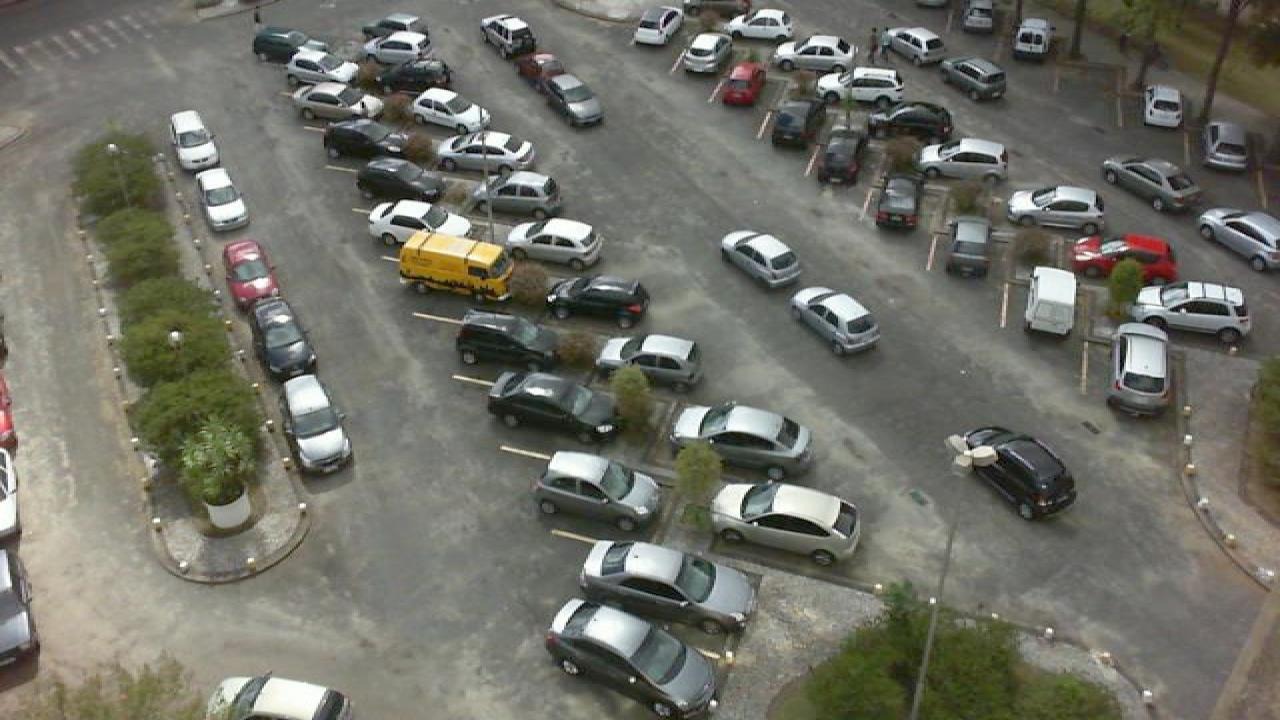Car: (544, 597, 724, 720), (576, 538, 758, 636), (708, 480, 866, 565), (946, 425, 1078, 521), (670, 403, 816, 477), (532, 450, 664, 531), (484, 370, 620, 440), (1134, 280, 1254, 346), (282, 373, 356, 474), (1104, 322, 1176, 420), (206, 673, 356, 720), (454, 308, 568, 366), (594, 332, 706, 390), (790, 286, 884, 353), (1100, 155, 1204, 213), (366, 198, 472, 250), (1072, 234, 1180, 285), (1198, 206, 1280, 271), (256, 296, 320, 379), (546, 273, 652, 322), (506, 216, 604, 268), (430, 128, 540, 174), (720, 228, 806, 286), (1006, 184, 1108, 230), (814, 66, 910, 112), (354, 156, 448, 202), (914, 136, 1010, 181), (286, 82, 386, 125), (472, 170, 564, 214), (408, 87, 492, 135), (192, 166, 254, 231), (320, 118, 410, 162), (222, 237, 278, 304), (866, 100, 954, 141), (284, 42, 362, 88), (542, 72, 606, 125), (946, 215, 996, 279), (772, 34, 856, 72), (168, 108, 218, 171), (816, 126, 870, 184), (940, 56, 1008, 102), (872, 174, 924, 233), (480, 13, 540, 61), (772, 98, 824, 152), (878, 26, 948, 66), (362, 30, 432, 68), (380, 58, 454, 92), (724, 8, 796, 42), (250, 26, 312, 65), (514, 49, 570, 92), (1202, 120, 1250, 170), (632, 5, 684, 48), (718, 62, 766, 108), (676, 31, 724, 74), (1144, 84, 1188, 128), (360, 14, 426, 42), (1012, 17, 1052, 61), (960, 0, 998, 34)
